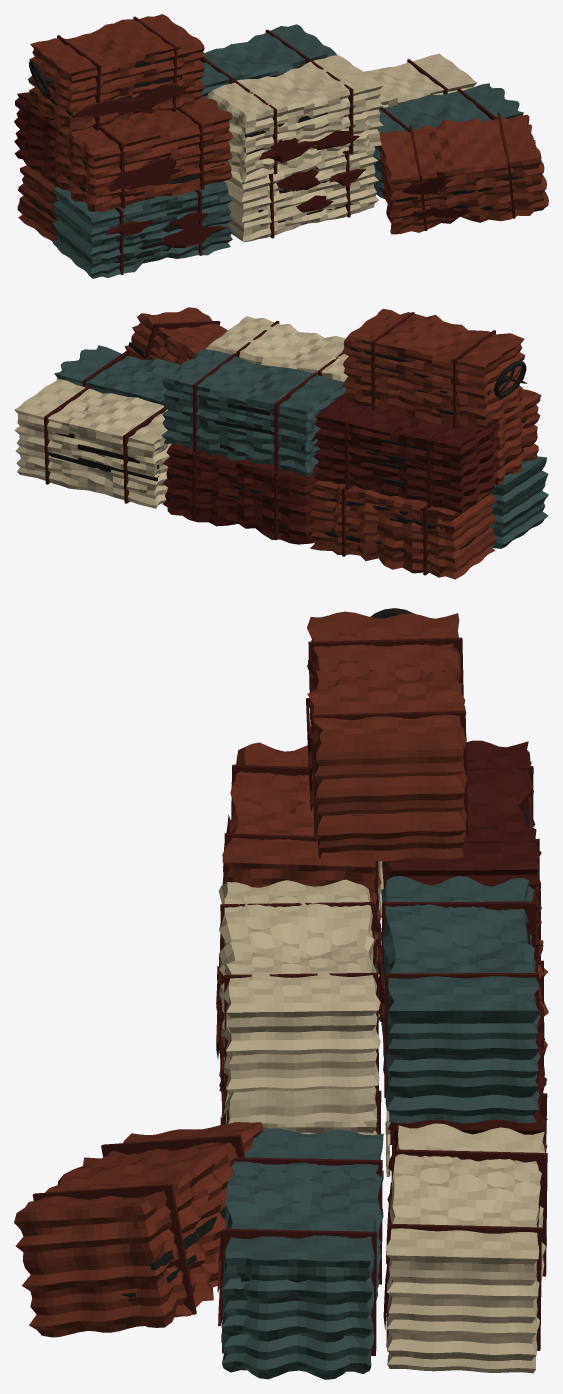
Rendered from bales.glb.
3 renders of one model, top to bottom at view 1: azimuth 30°, elevation 25°; view 2: azimuth 150°, elevation 25°; view 3: azimuth 270°, elevation 25°, orthographic. The views are drawn at different scales.
Visible parts, largest first — view 1: bale_fallen, bale_10, bale_8, bale_6, bale_0, bale_2, bale_9, bale_4, bale_5, bale_7, bale_1, bale_10_strap_-4 (+3 smaller); view 2: bale_10, bale_9, bale_7, bale_5, bale_1, bale_3, bale_8, bale_4, bale_fallen, bale_0, bale_6, bale_5_strap_-4 (+5 smaller); view 3: bale_10, bale_8, bale_4, bale_9, bale_5, bale_fallen, bale_6, bale_7, bale_3, bale_5_strap_-4, bale_2, bale_fallen_strap_-4 (+3 smaller).
Part boxes in pixels (<box>): bale_fallen: <box>379,113,548,234</box>; bale_10: <box>27,14,205,131</box>; bale_8: <box>206,55,383,182</box>; bale_6: <box>53,96,233,211</box>; bale_0: <box>52,181,232,278</box>; bale_2: <box>223,146,378,242</box>; bale_9: <box>199,24,337,97</box>; bale_4: <box>373,83,523,198</box>; bale_5: <box>364,53,477,107</box>; bale_7: <box>14,92,60,180</box>; bale_1: <box>17,159,58,242</box>; bale_10_strap_-4: <box>57,35,100,130</box>; bale_10: <box>342,309,527,430</box>; bale_9: <box>161,349,346,476</box>; bale_7: <box>314,393,496,513</box>; bale_5: <box>14,379,171,508</box>; bale_1: <box>309,480,496,579</box>; bale_3: <box>162,443,319,544</box>; bale_8: <box>206,316,348,381</box>; bale_4: <box>54,345,180,404</box>; bale_fallen: <box>124,307,227,364</box>; bale_0: <box>490,456,548,548</box>; bale_6: <box>493,389,541,485</box>; bale_5_strap_-4: <box>123,407,166,503</box>; bale_10: <box>306,611,468,861</box>; bale_8: <box>217,879,380,1124</box>; bale_4: <box>217,1128,383,1379</box>; bale_9: <box>378,876,540,1123</box>; bale_5: <box>383,1123,546,1373</box>; bale_fallen: <box>14,1122,263,1337</box>; bale_6: <box>222,742,383,963</box>; bale_7: <box>377,740,541,982</box>; bale_3: <box>385,998,547,1202</box>; bale_5_strap_-4: <box>393,1149,547,1276</box>; bale_2: <box>220,1044,381,1135</box>; bale_fallen_strap_-4: <box>101,1135,244,1157</box>.
Bounding box in the file's own units: 5.31 × 2.25 × 2.85.
